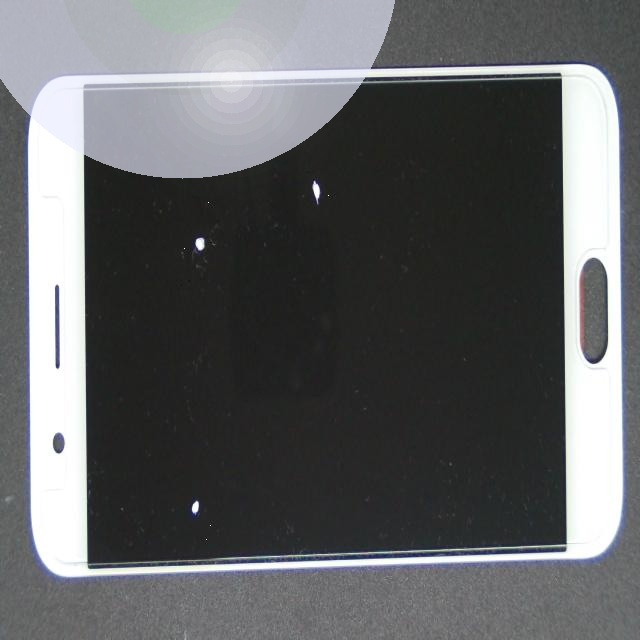stain: (148, 72, 457, 342), (82, 244, 279, 640), (70, 111, 273, 398)
